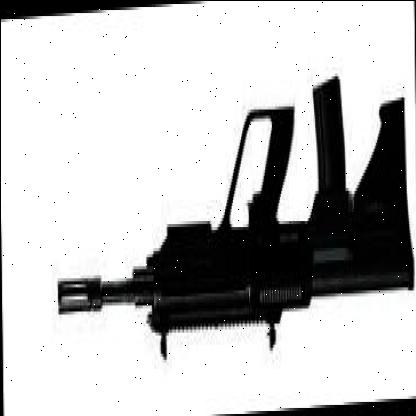rifle: (52, 61, 414, 352)
